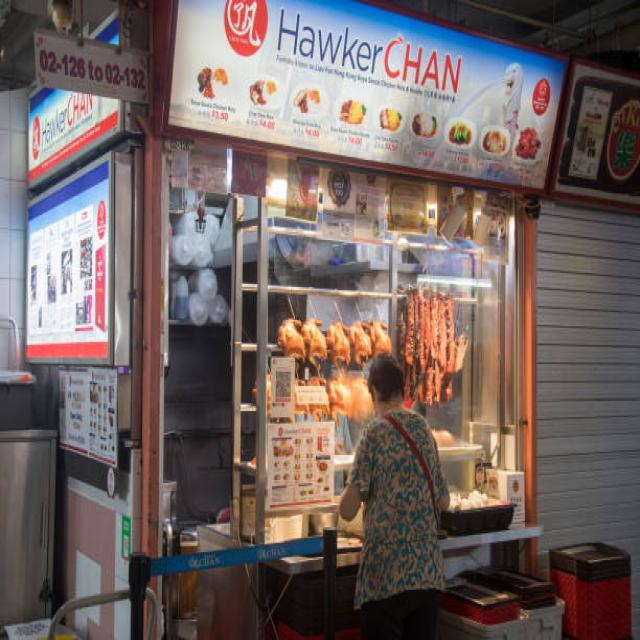Emperan: (18, 0, 573, 633)
